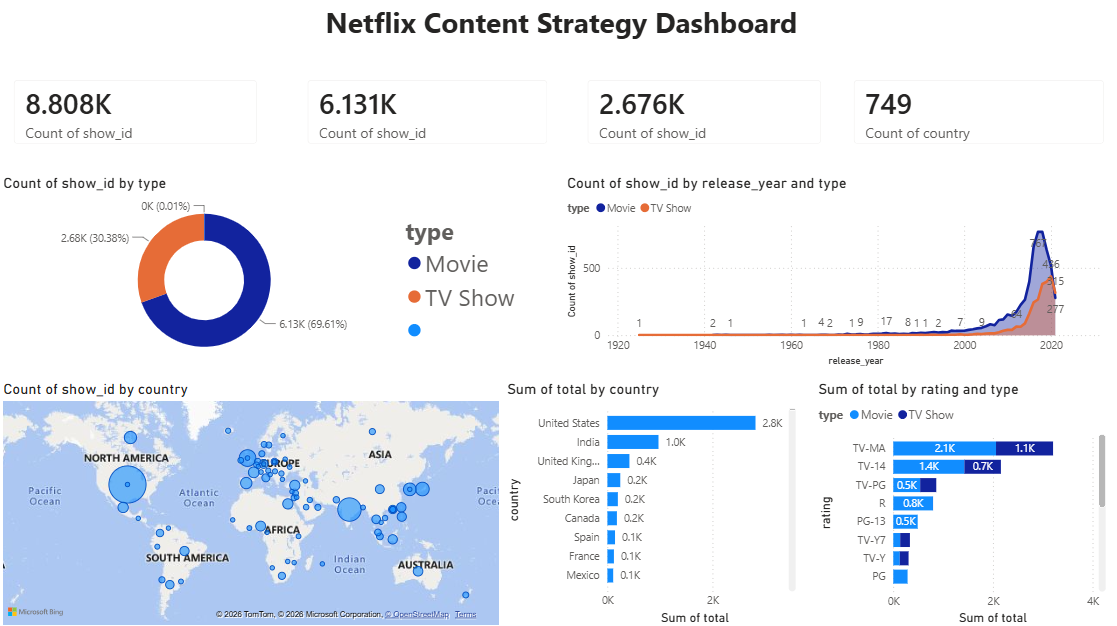

The dashboard page shown, as its layout file describes it:
{"tool":"powerbi","page":{"name":"Page 1","canvas":[1280,720],"ordinal":0},"visuals":[{"type":"map","fields":{"Category":["netflix_cleaned.country"],"Size":["CountNonNull(netflix_cleaned.show_id)"]},"box":[0,435.7,575.7,284.3],"z":0},{"type":"donutChart","fields":{"Category":["netflix_cleaned.type"],"Y":["CountNonNull(netflix_cleaned.show_id)"]},"box":[0,200,604.3,224.3],"z":1},{"type":"cardVisual","fields":{"Data":["Count(netflix_cleaned.show_id)"]},"box":[0,75.7,312.9,107.1],"z":2},{"type":"cardVisual","fields":{"Data":["Count(netflix_cleaned.show_id)"]},"box":[335.7,75.7,308.6,107.1],"z":3},{"type":"cardVisual","fields":{"Data":["Count(netflix_cleaned.show_id)"]},"box":[655.7,75.7,301.4,107.1],"z":4},{"type":"cardVisual","fields":{"Data":["Count(netflix_cleaned.country)"]},"box":[960,75.7,320,107.1],"z":5},{"type":"lineChart","fields":{"Category":["netflix_cleaned.release_year"],"Y":["CountNonNull(netflix_cleaned.show_id)"],"Series":["netflix_cleaned.type"]},"box":[644.3,200,625.7,224.3],"z":6},{"type":"clusteredBarChart","fields":{"Category":["country_breakdown.country"],"Y":["Sum(country_breakdown.total)"]},"box":[575.7,435.7,340,284.3],"z":7},{"type":"barChart","fields":{"Category":["rating_by_type.rating"],"Y":["Sum(rating_by_type.total)"],"Series":["rating_by_type.type"]},"box":[931.4,435.7,338.6,284.3],"z":8},{"type":"textbox","box":[354.3,0,577.1,55.7],"z":9}]}

Visuals, with their boxes in screenshot pixels (x1, y1, x2, y2), scaled from the page's 1280x720 canvas onto the 1117x626 screenshot:
map - netflix_cleaned.country x CountNonNull(netflix_cleaned.show_id): {"x1": 0, "y1": 379, "x2": 502, "y2": 625}
donutChart - netflix_cleaned.type x CountNonNull(netflix_cleaned.show_id): {"x1": 0, "y1": 174, "x2": 527, "y2": 369}
cardVisual - Count(netflix_cleaned.show_id): {"x1": 0, "y1": 66, "x2": 273, "y2": 159}
cardVisual - Count(netflix_cleaned.show_id): {"x1": 293, "y1": 66, "x2": 562, "y2": 159}
cardVisual - Count(netflix_cleaned.show_id): {"x1": 572, "y1": 66, "x2": 835, "y2": 159}
cardVisual - Count(netflix_cleaned.country): {"x1": 838, "y1": 66, "x2": 1116, "y2": 159}
lineChart - netflix_cleaned.release_year x CountNonNull(netflix_cleaned.show_id): {"x1": 562, "y1": 174, "x2": 1108, "y2": 369}
clusteredBarChart - country_breakdown.country x Sum(country_breakdown.total): {"x1": 502, "y1": 379, "x2": 799, "y2": 625}
barChart - rating_by_type.rating x Sum(rating_by_type.total): {"x1": 813, "y1": 379, "x2": 1108, "y2": 625}
textbox: {"x1": 309, "y1": 0, "x2": 813, "y2": 48}
